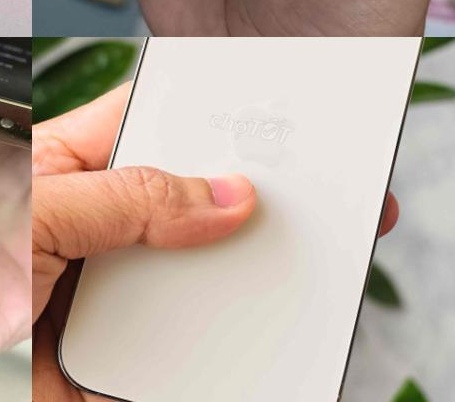scratch: (0, 74, 32, 228)
